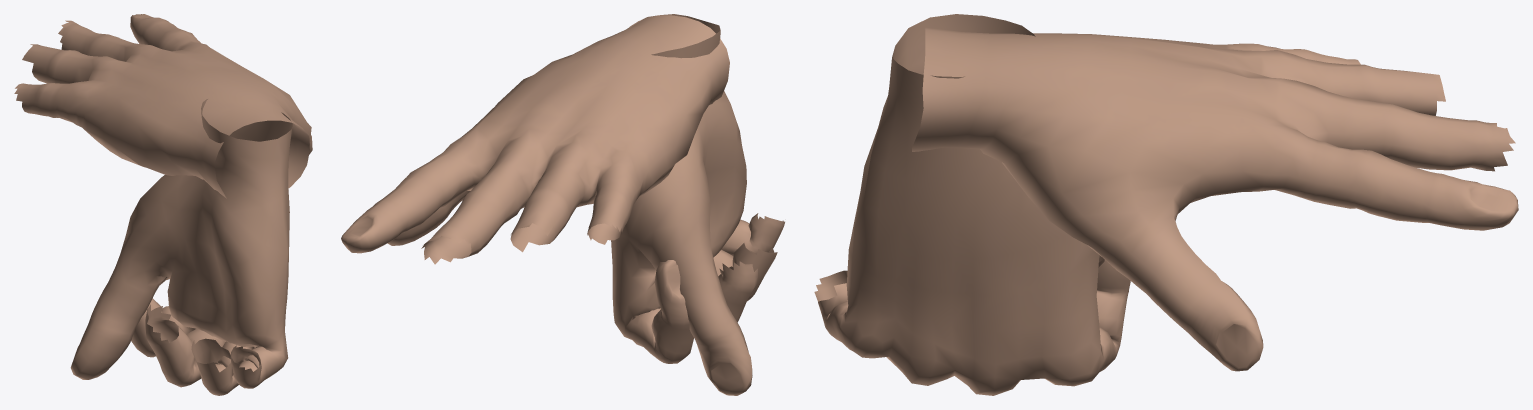
Rendered from AnatomicalHands.glb.
3 renders of one model, left to right at view 1: azimuth 30°, elevation 25°; view 2: azimuth 150°, elevation 25°; view 3: azimuth 270°, elevation 25°, orthographic. The views are drawn at different scales.
Parts seen in each view (by area): view 1: RightHand, LeftHand; view 2: LeftHand, RightHand; view 3: LeftHand, RightHand.
Part boxes in pixels (x1,y1,x2,y2): RightHand: (70,99,292,395); LeftHand: (14,14,312,198); LeftHand: (341,15,729,264); RightHand: (611,14,784,395); LeftHand: (912,27,1518,371); RightHand: (814,14,1130,395).
Bounding box in the file's own units: 0.1585 × 0.1474 × 0.244.
Materials: 1 (1 with a texture image).
